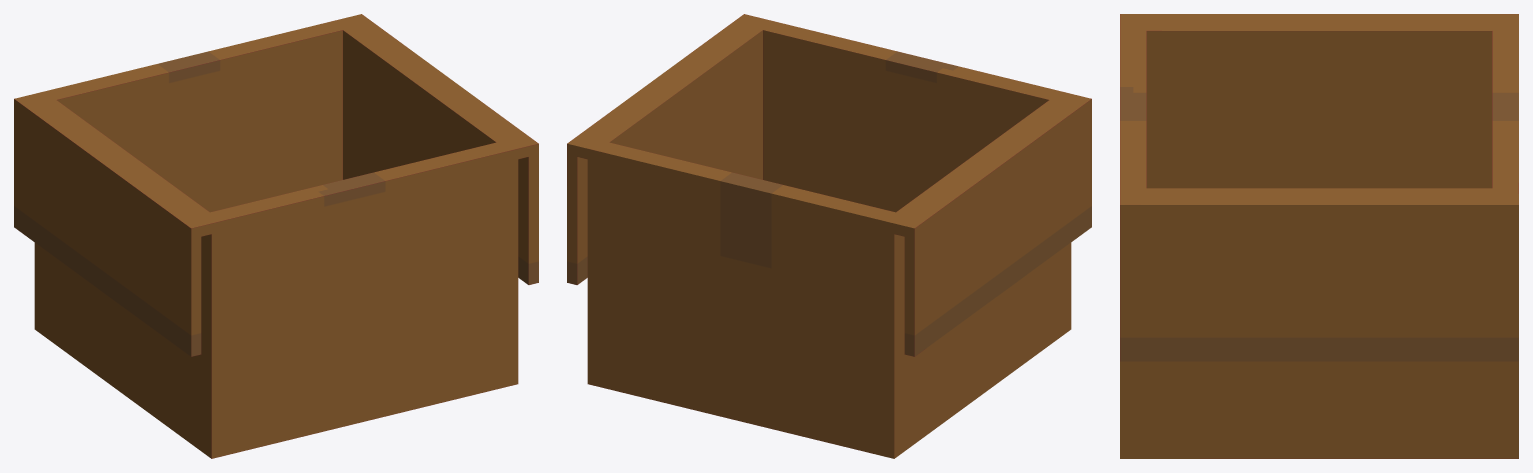
Rendered from Escenario 3 chocorramosurvivor-6.obj.
3 views of the same model, side by side, from view 1: azimuth 30°, elevation 25°; view 2: azimuth 150°, elevation 25°; view 3: azimuth 270°, elevation 25° (orthographic). The views are drawn at different scales.
Parts seen in each view (by area): view 1: Escenario_3_chocorramosurvivor-6; view 2: Escenario_3_chocorramosurvivor-6; view 3: Escenario_3_chocorramosurvivor-6.
Boxes of the visible parts, left/top/right/bottom form: Escenario_3_chocorramosurvivor-6: left=14, top=14, right=538, bottom=458; Escenario_3_chocorramosurvivor-6: left=567, top=14, right=1091, bottom=458; Escenario_3_chocorramosurvivor-6: left=1120, top=14, right=1518, bottom=458.
Size of the model in its own units: 3.4 by 2.2 by 3.
1 material, 1 textured.
